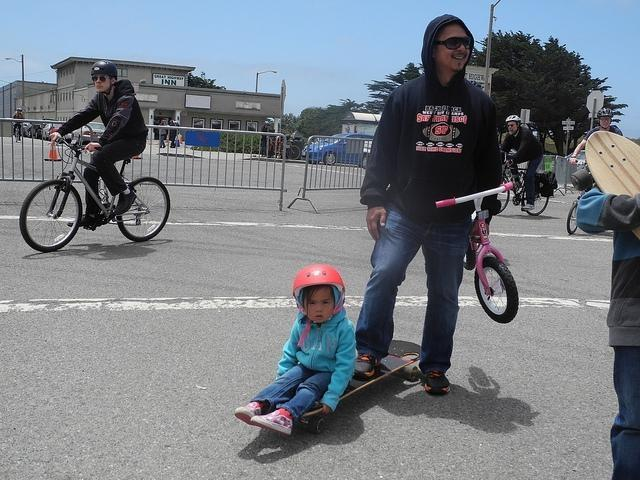bicycle: (20, 136, 170, 252), (440, 183, 519, 326), (498, 156, 552, 216), (566, 160, 596, 232), (286, 140, 300, 160), (269, 138, 282, 152), (16, 126, 20, 142)
car: (307, 134, 372, 166), (302, 133, 374, 160), (74, 122, 106, 145), (27, 124, 48, 140), (566, 147, 586, 163)
